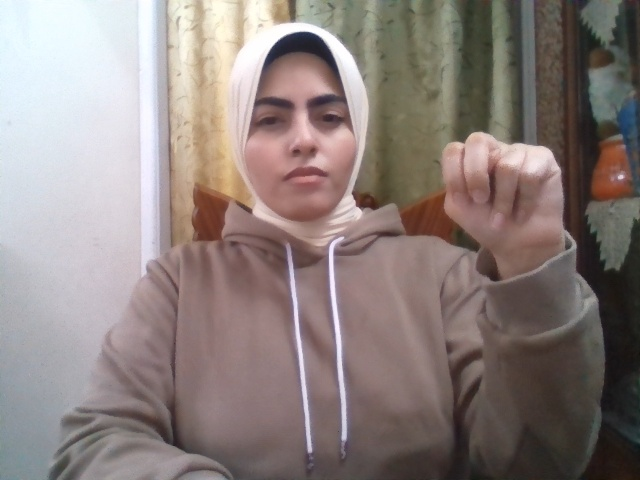N: (441, 131, 565, 253)
